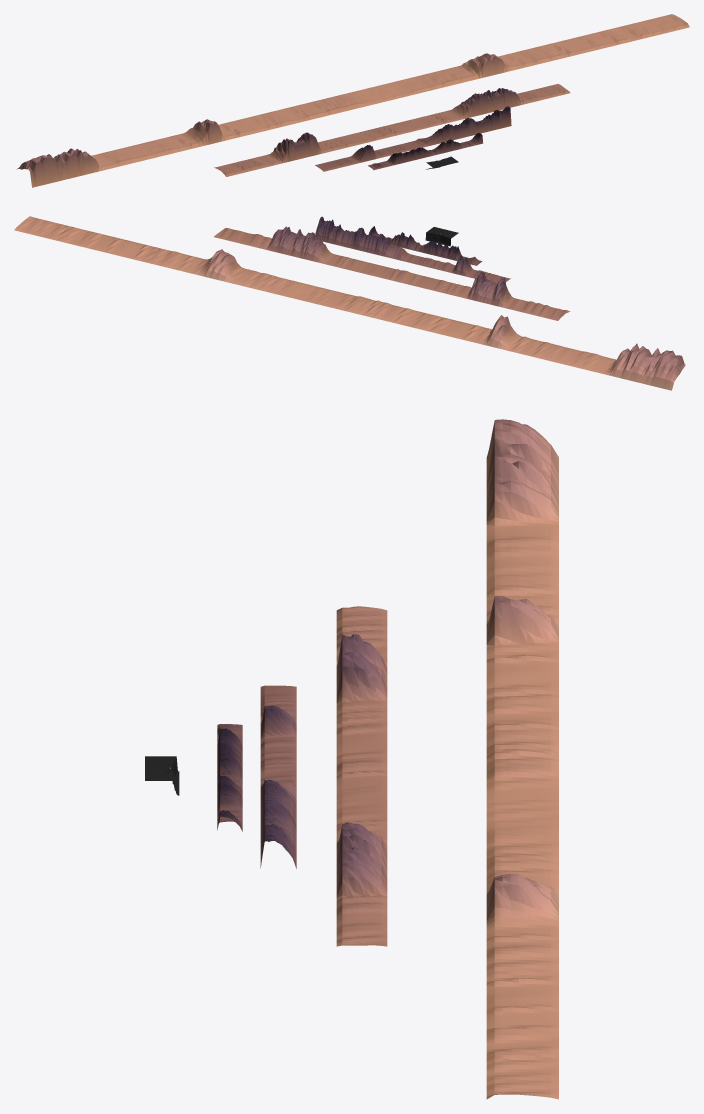
3 renders of one model, top to bottom at view 1: azimuth 30°, elevation 25°; view 2: azimuth 150°, elevation 25°; view 3: azimuth 270°, elevation 25°, orthographic. The views are drawn at different scales.
Parts seen in each view (by area): view 1: ridge3, ridge2, ridge1, ridge0; view 2: ridge3, ridge2, ridge1, ridge0, ledge; view 3: ridge3, ridge2, ridge1, ridge0.
Boxes of the visible parts, box(x1,y1,x2,y2) form: ridge3: box(16, 14, 689, 187); ridge2: box(214, 84, 570, 176); ridge1: box(315, 106, 511, 171); ridge0: box(368, 133, 483, 170); ridge3: box(14, 216, 685, 390); ridge2: box(214, 226, 570, 320); ridge1: box(315, 216, 510, 283); ridge0: box(369, 226, 482, 265); ledge: box(425, 227, 458, 246); ridge3: box(486, 419, 558, 1099); ridge2: box(336, 606, 387, 946); ridge1: box(260, 685, 296, 868); ridge0: box(217, 724, 242, 831).
Size of the model in its own units: 840 by 33.13 by 229.
